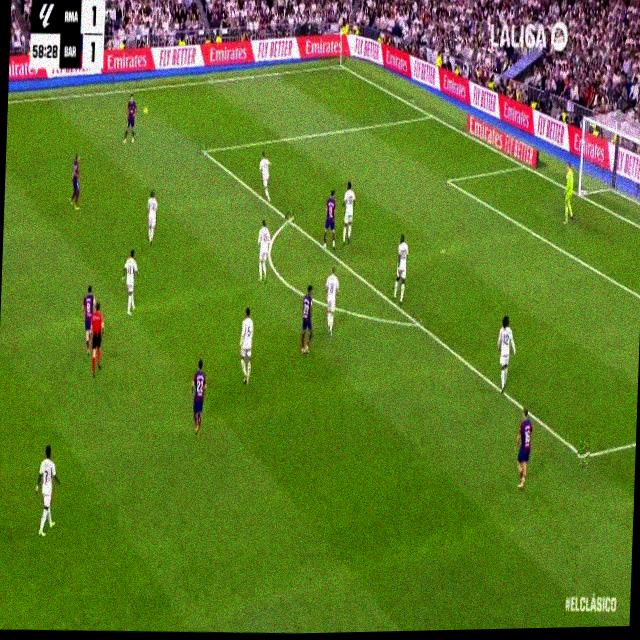bigarea_bottom_inner: (576, 440, 590, 471)
bigarea_top_inner: (199, 140, 208, 161)
bottom_arc_area_intersection: (411, 312, 422, 332)
corner: (334, 58, 346, 70)
smallarea_top_inner: (444, 174, 450, 187)
top_arc_area_intersection: (284, 210, 294, 228)
